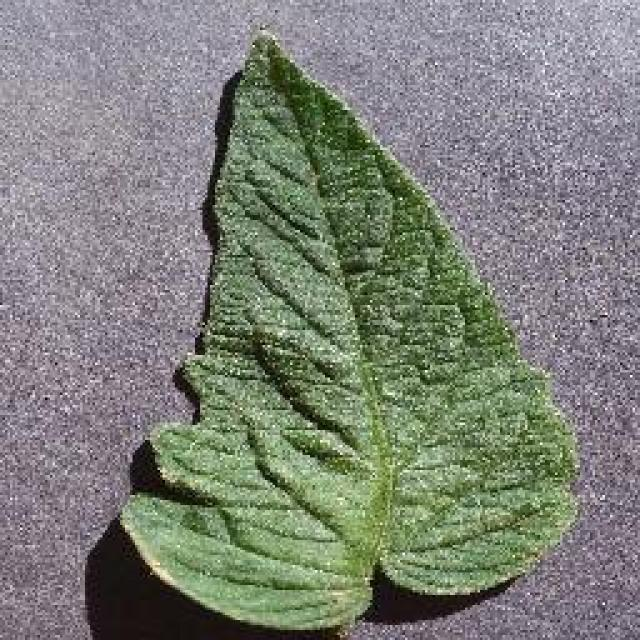healthy: (122, 28, 580, 630)
